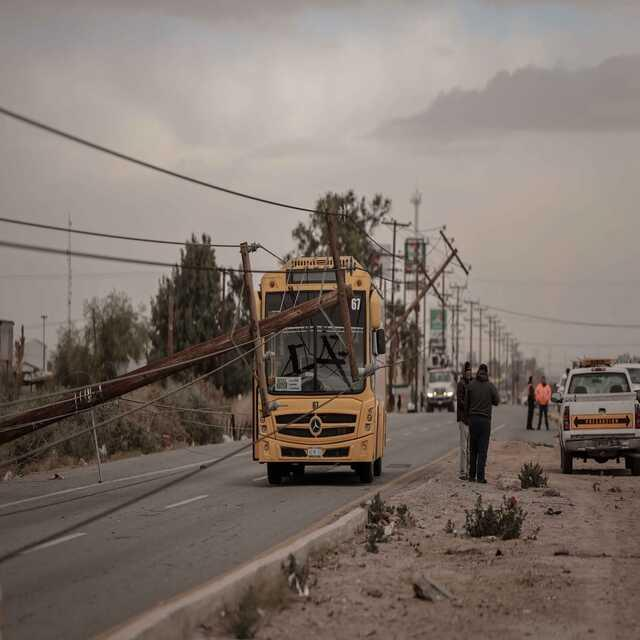Inclined Pole: (0, 209, 351, 458), (394, 217, 484, 356)
